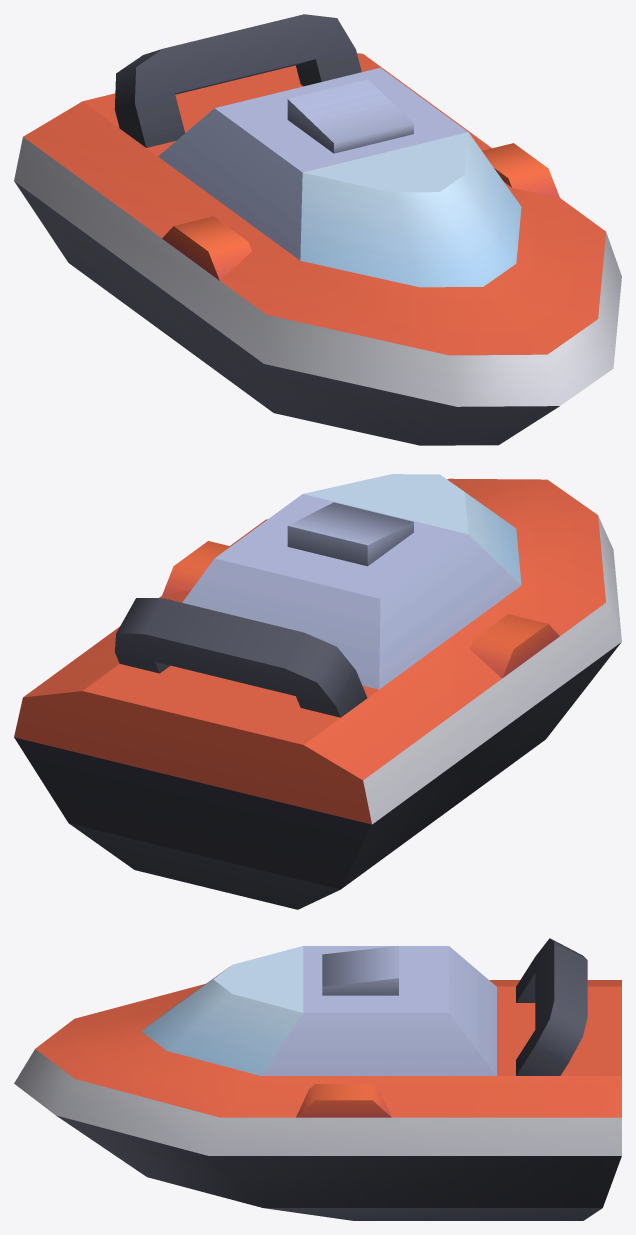
File: boat-speed-c-transformed-transformed.glb
3 views of the same model, one above another, from view 1: azimuth 30°, elevation 25°; view 2: azimuth 150°, elevation 25°; view 3: azimuth 270°, elevation 25° (orthographic). The views are drawn at different scales.
Parts seen in each view (by area): view 1: boat-speed-c; view 2: boat-speed-c; view 3: boat-speed-c.
Boxes of the visible parts, bbox=[...] form: boat-speed-c: bbox=[14, 14, 621, 445]; boat-speed-c: bbox=[14, 474, 621, 909]; boat-speed-c: bbox=[14, 938, 621, 1220].
Size of the model in its own units: 1.78 by 1.3 by 3.17.
Materials: 1 (1 with a texture image).
